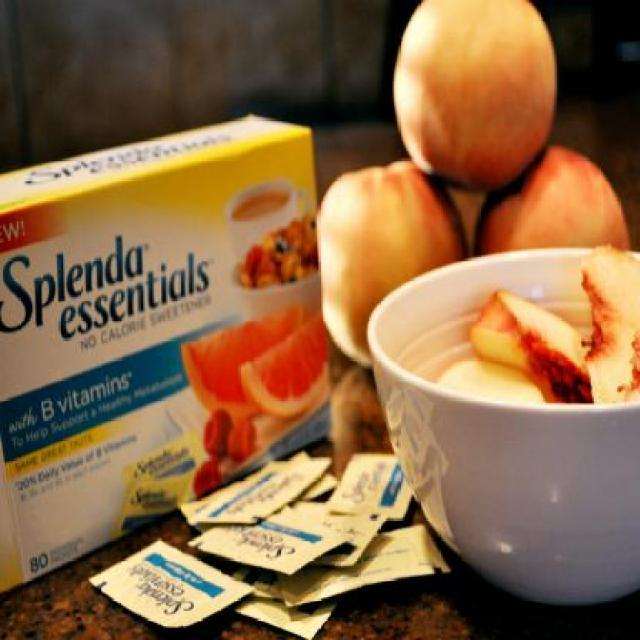Peach: (392, 0, 557, 197), (317, 159, 468, 370), (473, 143, 630, 251), (468, 286, 592, 402), (580, 244, 640, 404), (436, 354, 544, 404)
